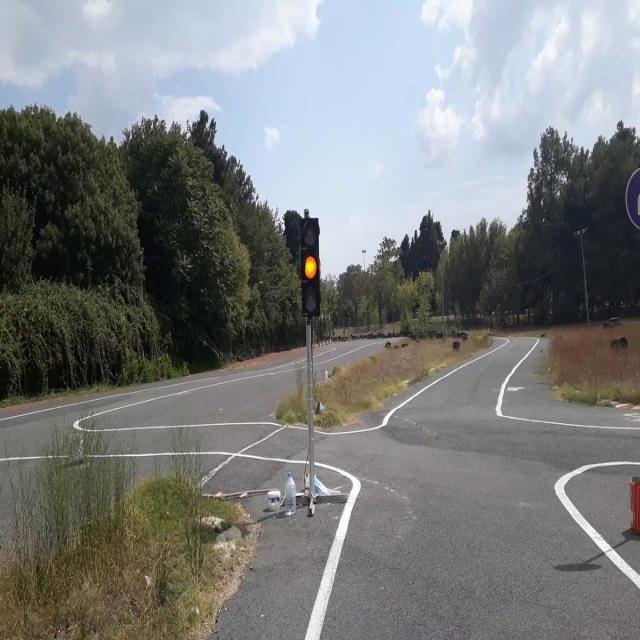sari: (302, 218, 319, 314)
